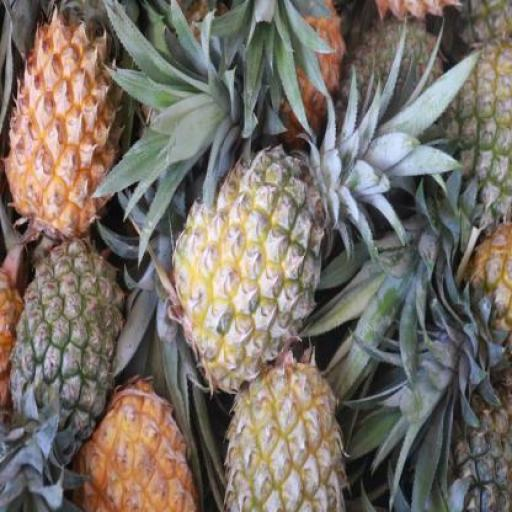------------------------------: (175, 145, 328, 392), (221, 360, 344, 512)
Pineapple - v8 v1: (9, 11, 121, 238), (72, 380, 195, 511)
